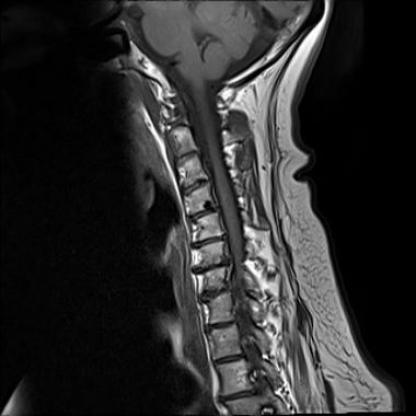Disc Bulgerotation: (189, 234, 230, 249), (191, 261, 232, 276)
Osteophytesrotation: (192, 261, 233, 276), (189, 234, 229, 249)
